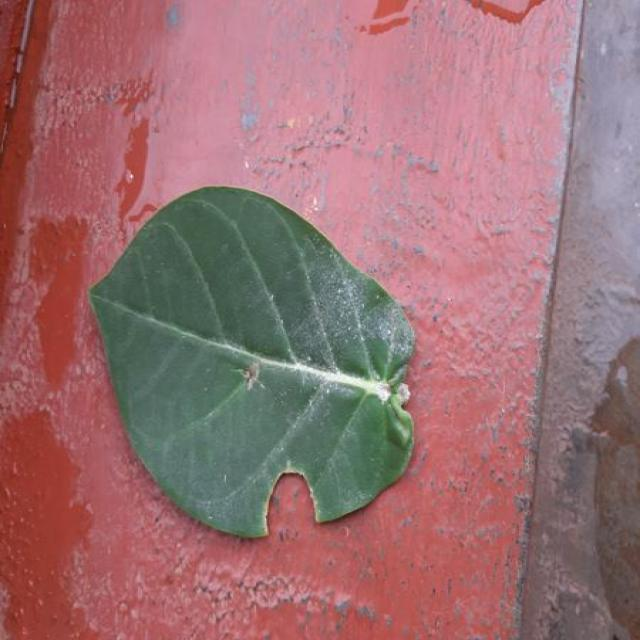ekka: (90, 186, 413, 537)
